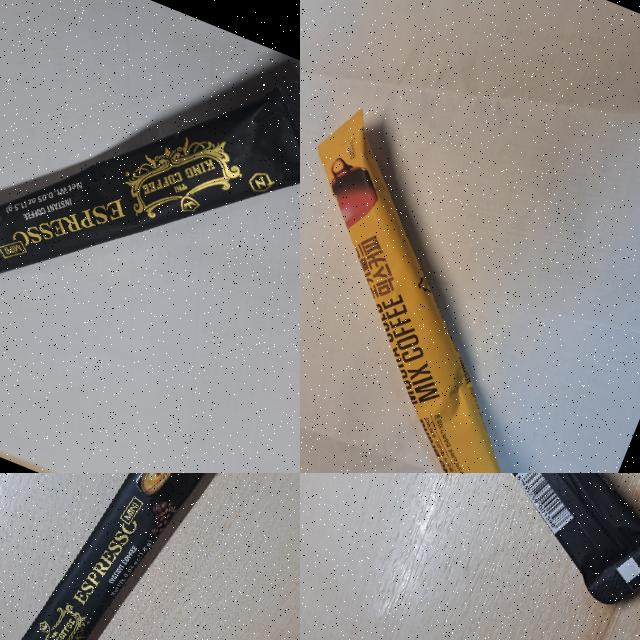espresso_mini: (0, 0, 300, 425), (300, 473, 640, 640), (0, 473, 259, 640)
mix_coffee: (300, 82, 640, 473)
